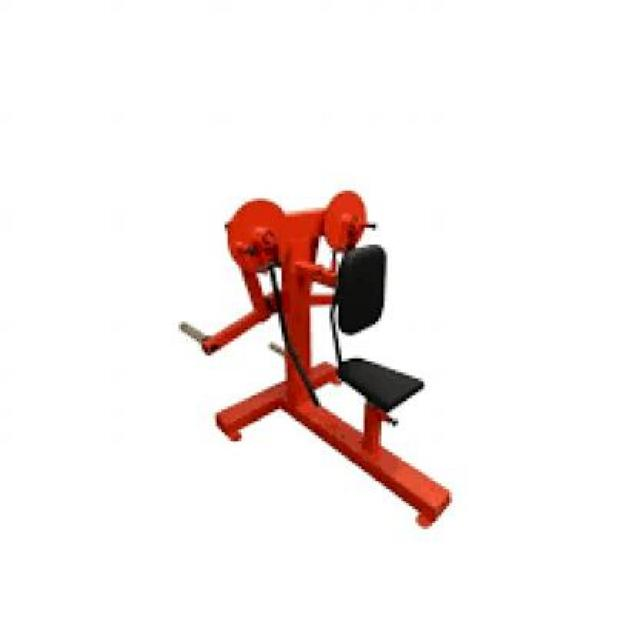lateral raises machine: (181, 192, 457, 531)
